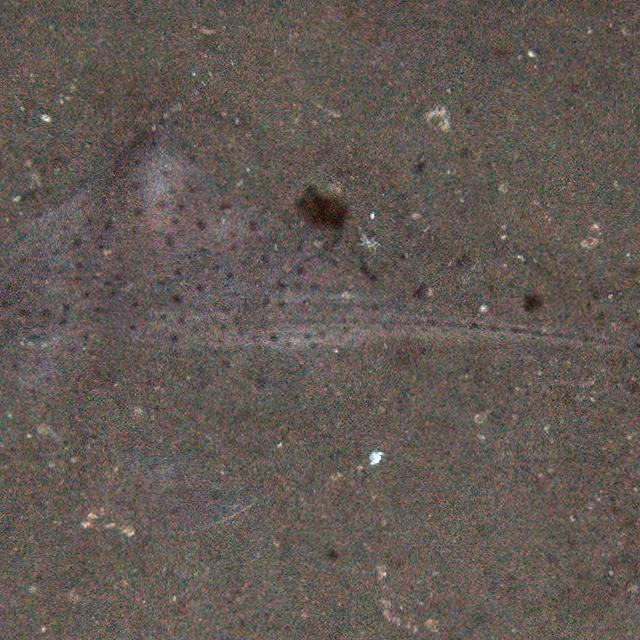skate: (2, 132, 640, 532)
